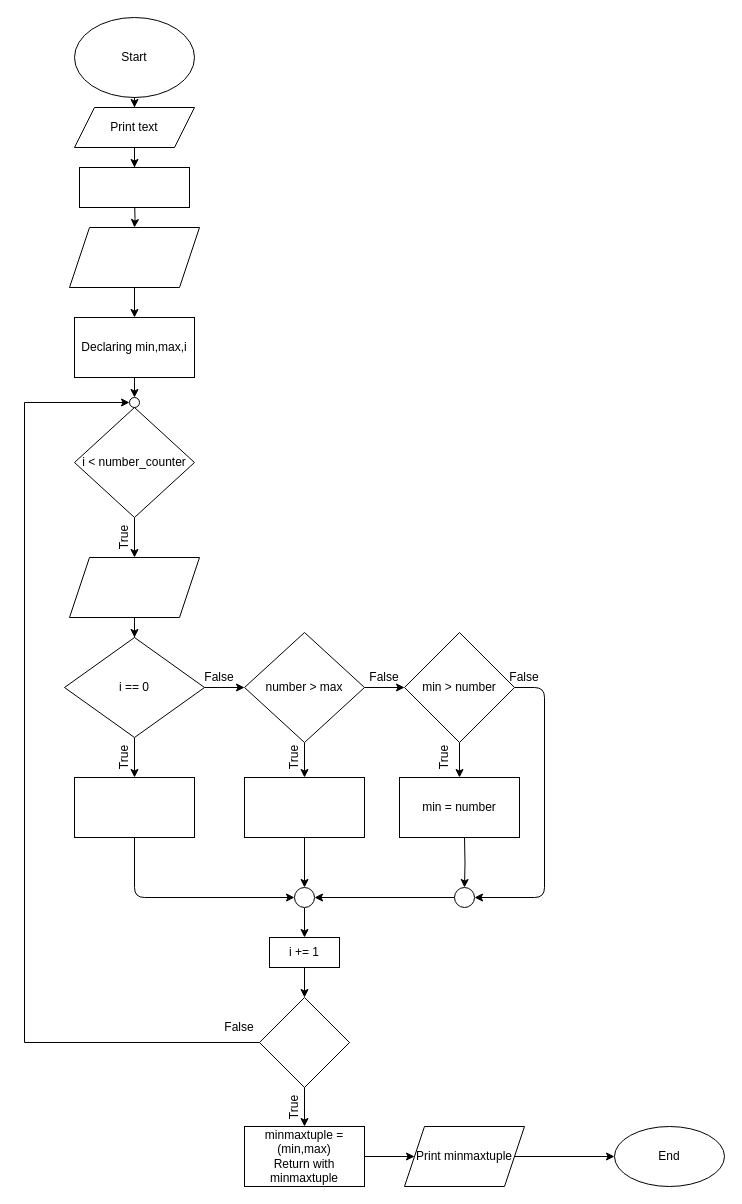
Some shapes in this 742 by 1204 pixel diagram are drawn without their labels. The shapes that lost their labels are listed below. From the top down, each one's centre as x and y in pixels, then its label:
At (x=134, y=187): "Calling minmax function".
At (x=134, y=257): "Getting number_counter".
At (x=134, y=587): "Getting number".
At (x=134, y=807): "min = number max = number".
At (x=304, y=807): "max = number".
At (x=304, y=1042): "i == number _counter".
